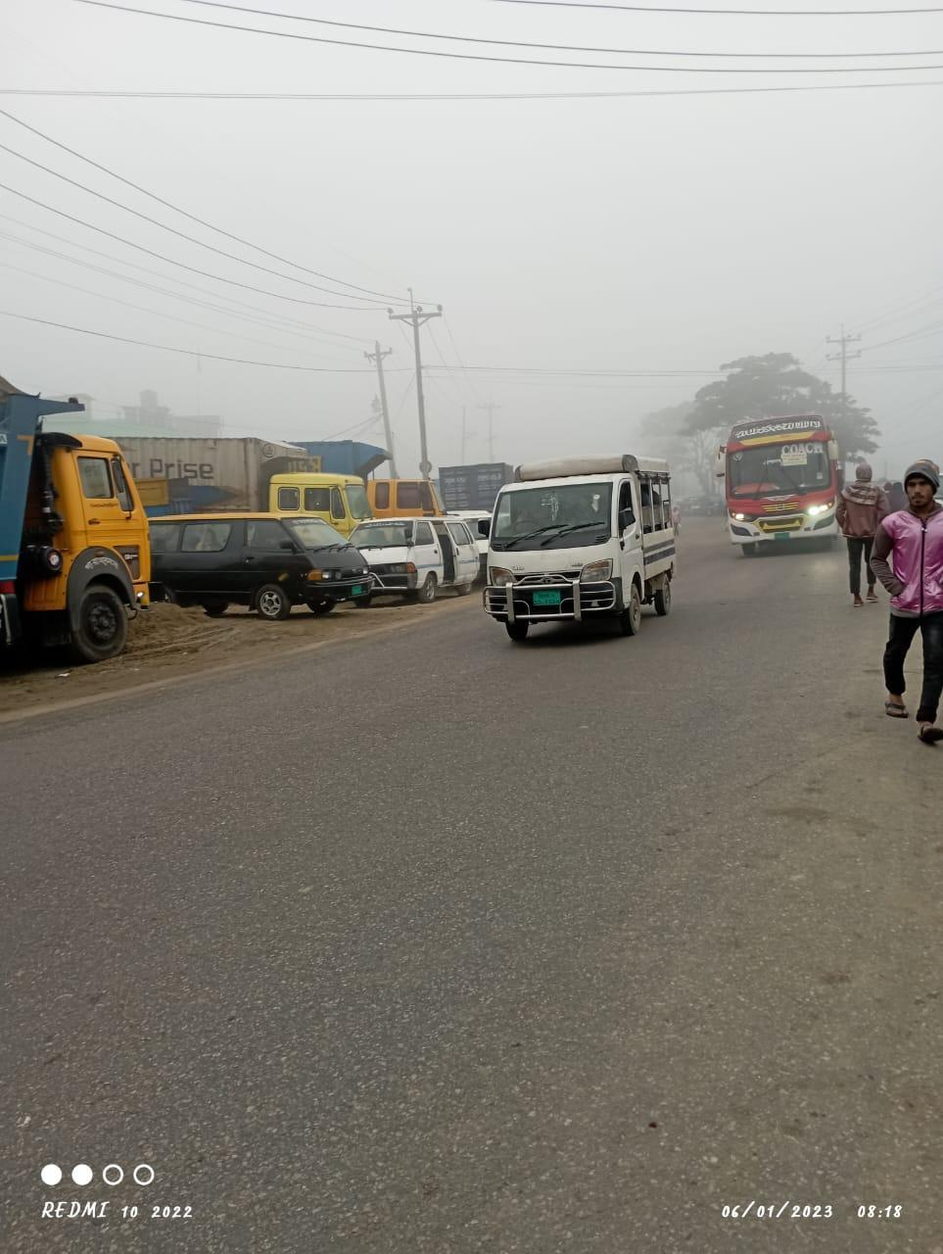Bus: (723, 407, 851, 555)
Car: (467, 450, 686, 639), (151, 493, 376, 624), (351, 513, 482, 601)
Truck: (5, 375, 166, 667), (112, 430, 401, 565)
